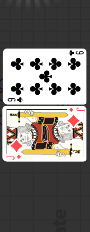9C: (6, 96, 23, 104)
JD: (5, 154, 22, 161)
